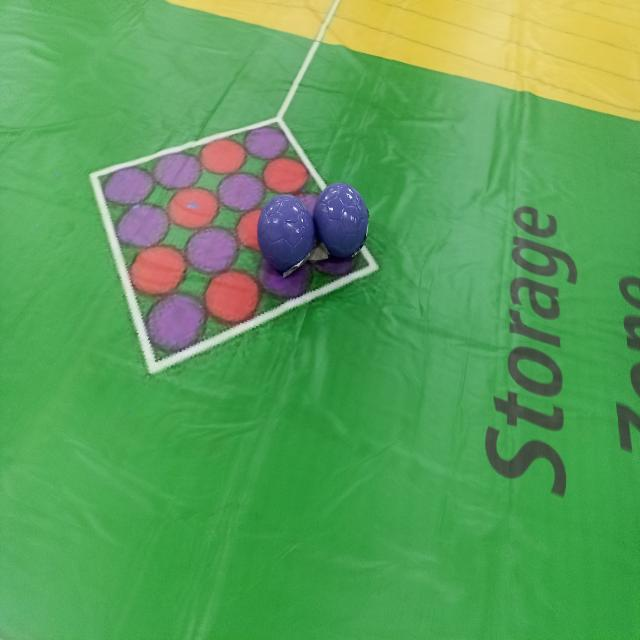purple_ball: (315, 166, 384, 266), (252, 185, 316, 279)
